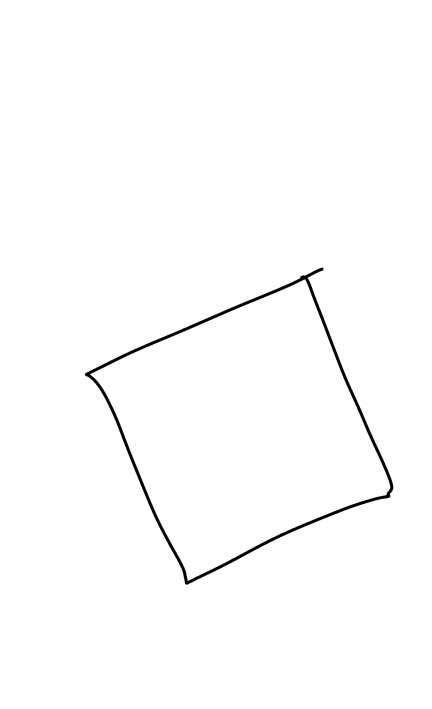Square: (79, 261, 398, 592)
